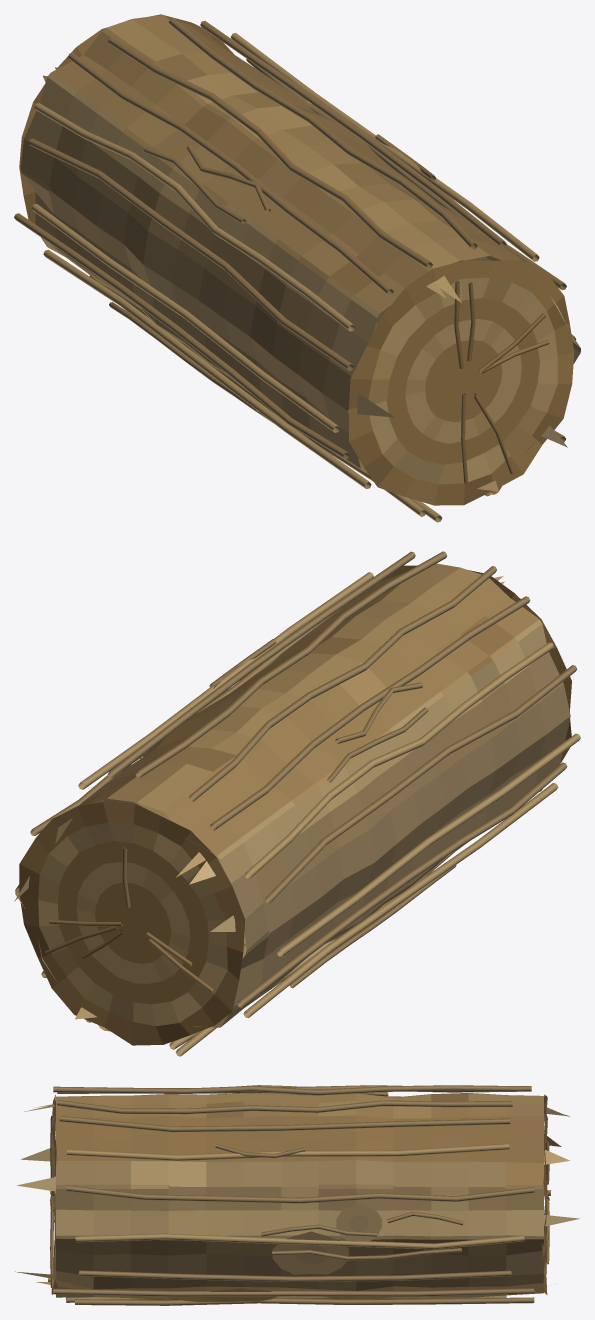
The model's file is Log.glb.
The picture shows the model from 3 angles, top to bottom: view 1: azimuth 30°, elevation 25°; view 2: azimuth 150°, elevation 25°; view 3: azimuth 270°, elevation 25°; orthographic projection. The views are drawn at different scales.
Visible parts, largest first — view 1: EXPORT_STRONG_Normal_Log_Rough; view 2: EXPORT_STRONG_Normal_Log_Rough; view 3: EXPORT_STRONG_Normal_Log_Rough.
Boxes of the visible parts, x1,y1,x2,y2 form: EXPORT_STRONG_Normal_Log_Rough: [14, 14, 580, 522]; EXPORT_STRONG_Normal_Log_Rough: [14, 551, 580, 1056]; EXPORT_STRONG_Normal_Log_Rough: [15, 1085, 579, 1305].
Bounding box in the file's own units: 0.2485 × 0.246 × 0.6393.
